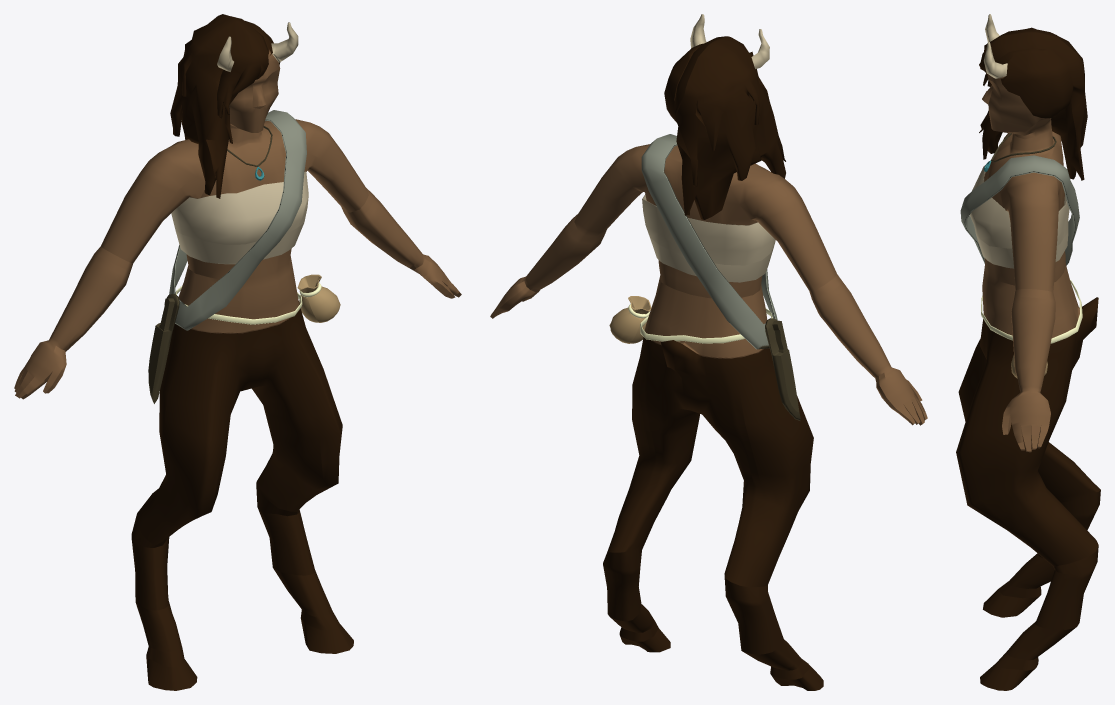
The model's file is pc_sailor_noanim.fbx.
3 views of the same model, side by side, from view 1: azimuth 30°, elevation 25°; view 2: azimuth 150°, elevation 25°; view 3: azimuth 270°, elevation 25° (orthographic). The views are drawn at different scales.
Visible parts, largest first — view 1: body2, hair, top1, sash1, knife, pouch; view 2: body2, hair, sash1, top1, knife, pouch, belt; view 3: body2, hair, sash1, top1, belt, necklace.
Boxes of the visible parts, x1,y1,x2,y2 form: body2: (14,22,461,690); hair: (170,14,280,198); top1: (171,171,308,264); sash1: (169,110,306,330); knife: (148,294,179,403); pouch: (297,274,340,322); body2: (490,14,927,690); hair: (664,36,785,219); sash1: (641,134,777,349); top1: (642,194,775,282); knife: (765,318,800,420); pouch: (609,296,651,343); belt: (640,308,772,343); body2: (956,14,1100,690); hair: (979,27,1087,180); sash1: (960,155,1079,265); top1: (970,165,1069,268); belt: (981,280,1082,343); necklace: (983,133,1056,171).
Size of the model in its own units: 252 by 351 by 75.
